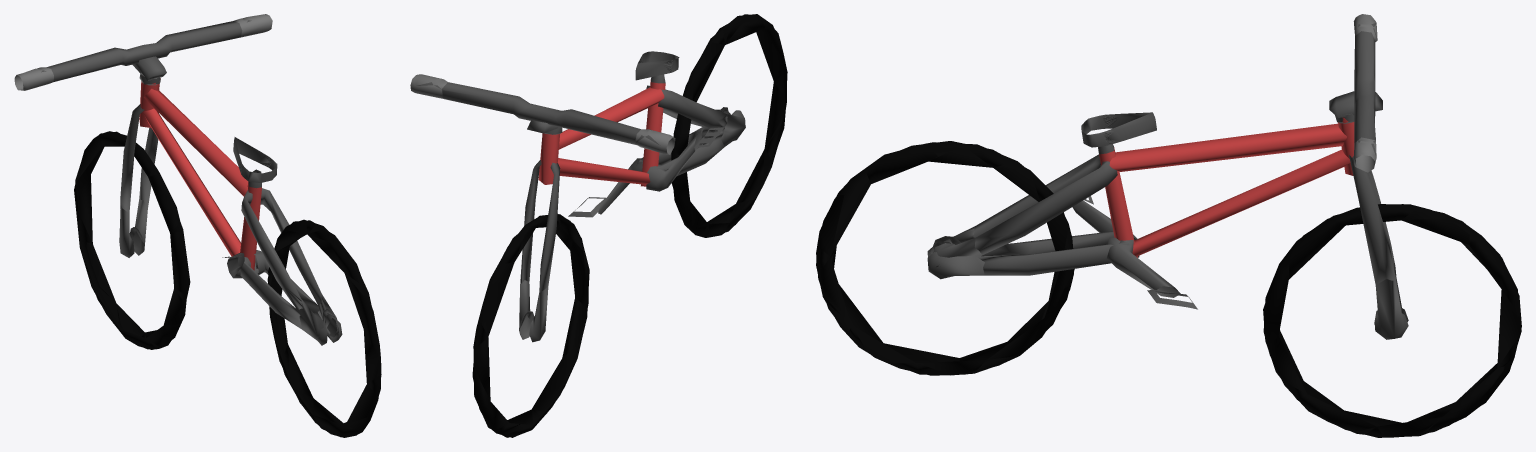
Rendered from lowpolycycle2.fbx.
The picture shows the model from 3 angles, left to right: view 1: azimuth 30°, elevation 25°; view 2: azimuth 150°, elevation 25°; view 3: azimuth 270°, elevation 25°; orthographic projection. The views are drawn at different scales.
Parts seen in each view (by area): view 1: Loft_2_3; view 2: Loft_2_3; view 3: Loft_2_3.
Part boxes in pixels (x1=…): Loft_2_3: x1=14, y1=14, x2=381, y2=437; Loft_2_3: x1=410, y1=14, x2=787, y2=437; Loft_2_3: x1=816, y1=14, x2=1521, y2=437.
Bounding box in the file's own units: 403 × 475 × 853.
